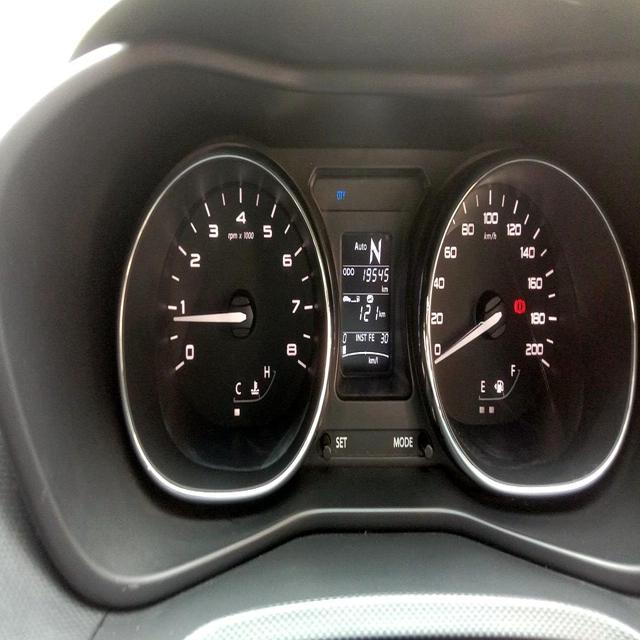odometer: (361, 262, 390, 286)
